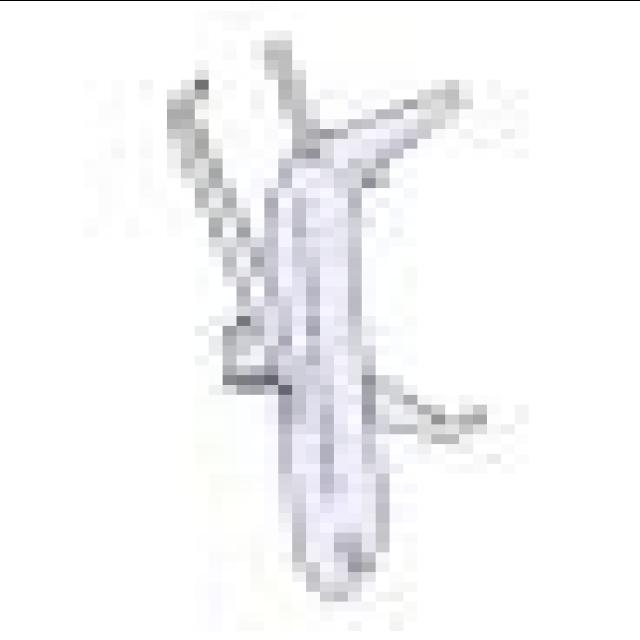jet: (84, 29, 529, 640)
